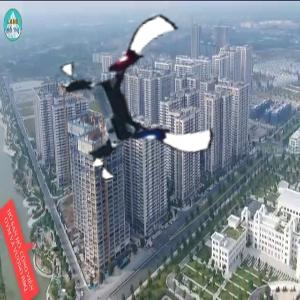drone: (63, 24, 212, 173)
